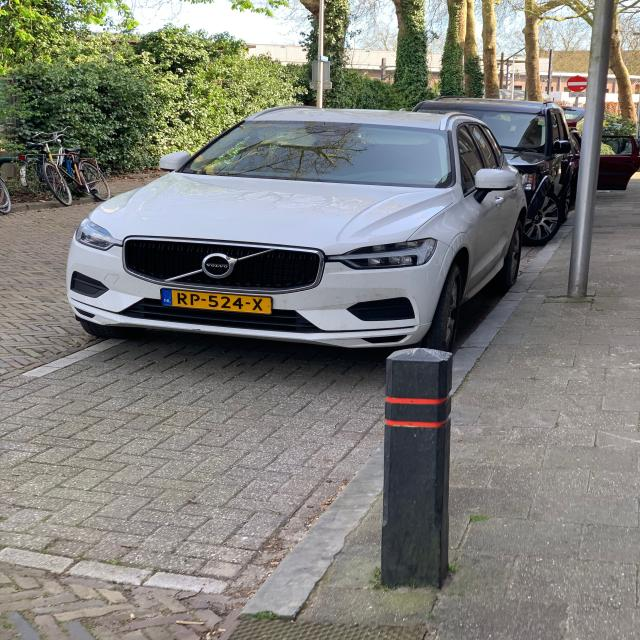plate: (160, 287, 274, 315)
